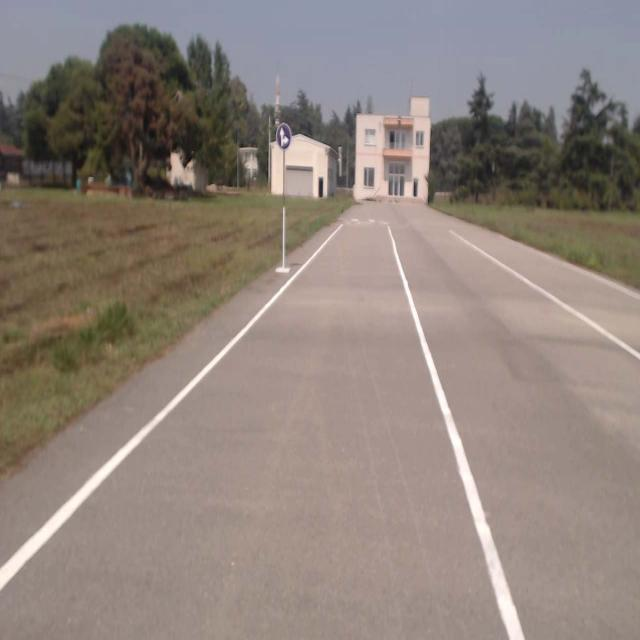ilerisag: (276, 123, 292, 150)
